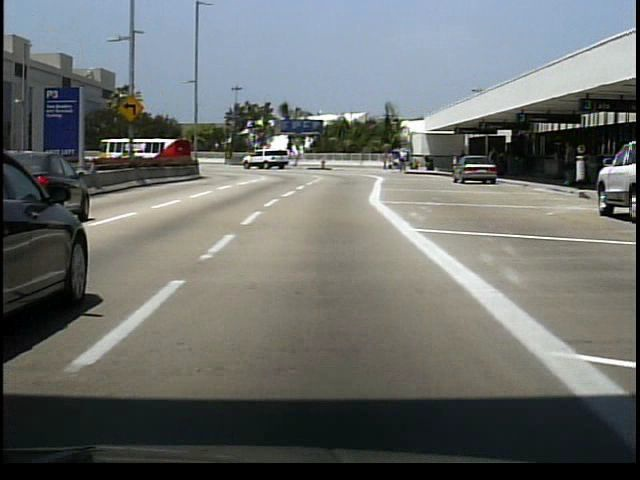person: (488, 149, 504, 182), (399, 145, 409, 175), (381, 148, 390, 172)
